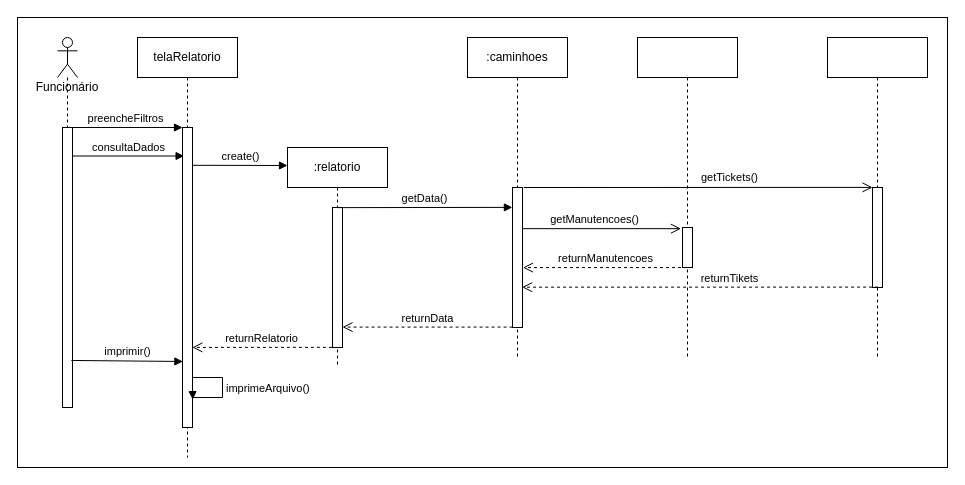
This 965x485 diagram has some shape labels left out. Each missing label, with the centre of its shape:
:manutencao: the point at 687,197
:tickets: the point at 877,197
